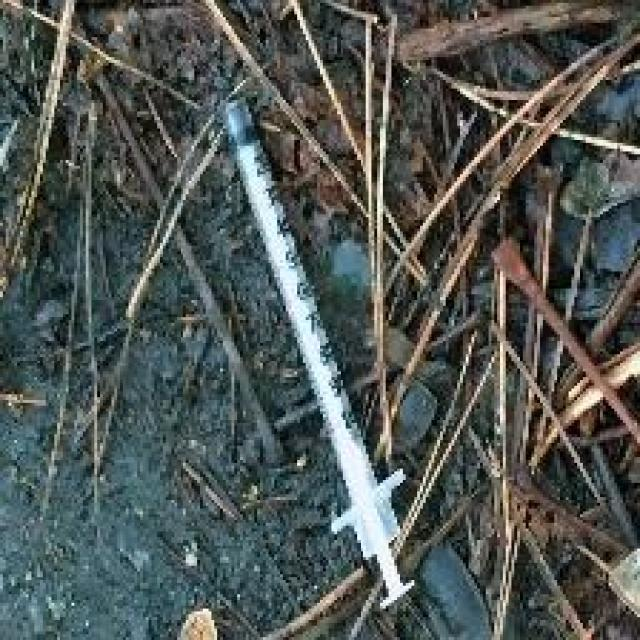syringe: (192, 58, 461, 626)
